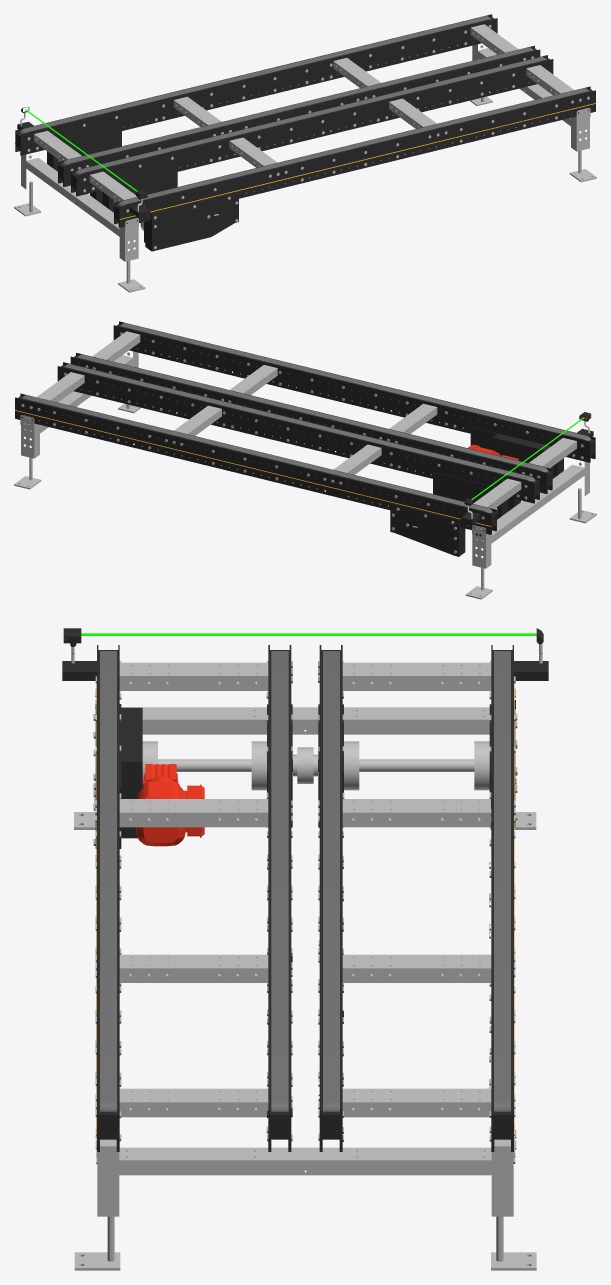
Rendered from ChainConveyor-3m.glb.
3 views of the same model, one above another, from view 1: azimuth 30°, elevation 25°; view 2: azimuth 150°, elevation 25°; view 3: azimuth 270°, elevation 25° (orthographic). The views are drawn at different scales.
Parts seen in each view (by area): view 1: Base, Transport-Z; view 2: Base, Transport-Z; view 3: Base, Transport-Z, DriveMesh, Ray.
Boxes of the visible parts, bbox=[...] form: Base: bbox=[14, 14, 596, 292]; Transport-Z: bbox=[19, 16, 589, 206]; Base: bbox=[14, 321, 596, 599]; Transport-Z: bbox=[21, 323, 591, 513]; Base: bbox=[74, 645, 536, 1270]; Transport-Z: bbox=[100, 651, 510, 1111]; DriveMesh: bbox=[136, 764, 204, 846]; Ray: bbox=[81, 633, 536, 635].
Size of the model in its own units: 3 by 0.5878 by 1.33.
